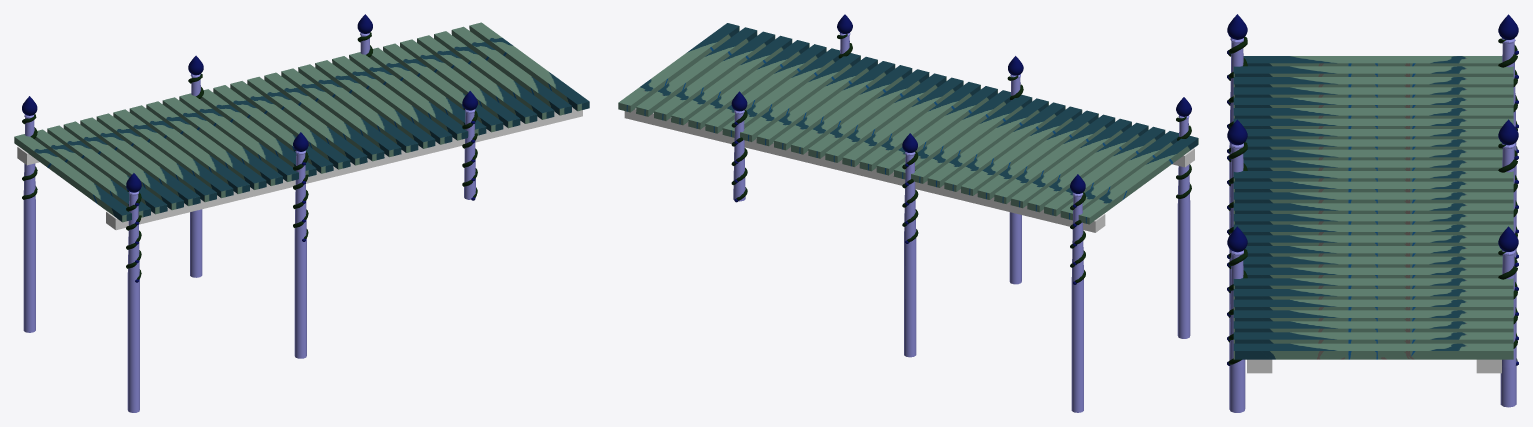
File: port.FBX
3 views of the same model, side by side, from view 1: azimuth 30°, elevation 25°; view 2: azimuth 150°, elevation 25°; view 3: azimuth 270°, elevation 25° (orthographic). The views are drawn at different scales.
Parts seen in each view (by area): view 1: port blank027, railing021, Box007; view 2: port blank027, railing021, Box007; view 3: port blank027, railing021, Box007.
Part boxes in pixels (left/top/right/bottom): port blank027: left=14, top=22, right=589, bottom=222; railing021: left=22, top=14, right=477, bottom=412; Box007: left=17, top=107, right=582, bottom=230; port blank027: left=618, top=23, right=1198, bottom=224; railing021: left=731, top=14, right=1191, bottom=412; Box007: left=624, top=108, right=1194, bottom=232; port blank027: left=1233, top=56, right=1513, bottom=359; railing021: left=1227, top=14, right=1518, bottom=412; Box007: left=1247, top=359, right=1501, bottom=373.
Bounding box in the file's own units: 18.72 × 9.07 × 7.8.
